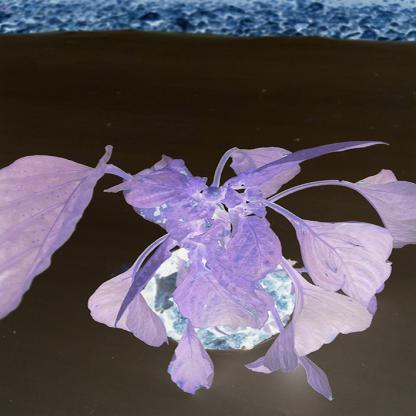Bell_pepper leaf: (0, 143, 112, 315), (290, 213, 401, 316), (175, 264, 271, 340), (164, 322, 223, 401), (223, 212, 289, 282), (115, 172, 200, 209)
